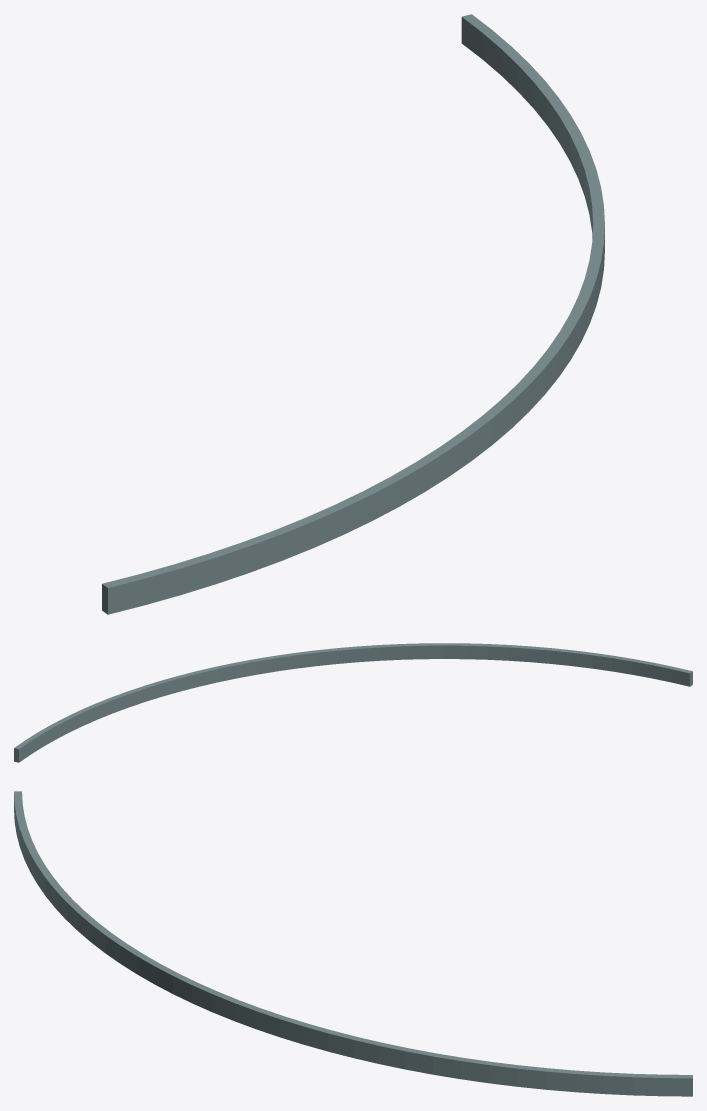
The model's file is RoadPlan_WalkCurve_2L_A90_R7_Curb_-1.glb.
3 renders of one model, top to bottom at view 1: azimuth 30°, elevation 25°; view 2: azimuth 150°, elevation 25°; view 3: azimuth 270°, elevation 25°, orthographic. The views are drawn at different scales.
Visible parts, largest first — view 1: RoadPlan_WalkCurve_2L_A90_R7_Curb_-1; view 2: RoadPlan_WalkCurve_2L_A90_R7_Curb_-1; view 3: RoadPlan_WalkCurve_2L_A90_R7_Curb_-1.
Boxes of the visible parts, <box> form: RoadPlan_WalkCurve_2L_A90_R7_Curb_-1: <box>102,14,604,614</box>; RoadPlan_WalkCurve_2L_A90_R7_Curb_-1: <box>14,643,692,762</box>; RoadPlan_WalkCurve_2L_A90_R7_Curb_-1: <box>14,791,692,1096</box>.
Bounding box in the file's own units: 10.12 × 0.3 × 10.12.
